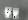person: (6, 8, 13, 19), (14, 9, 20, 20)
